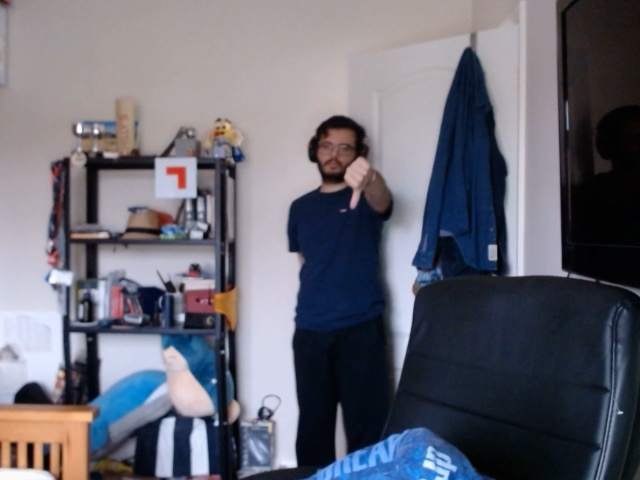Thumbs down: (342, 155, 371, 210)
